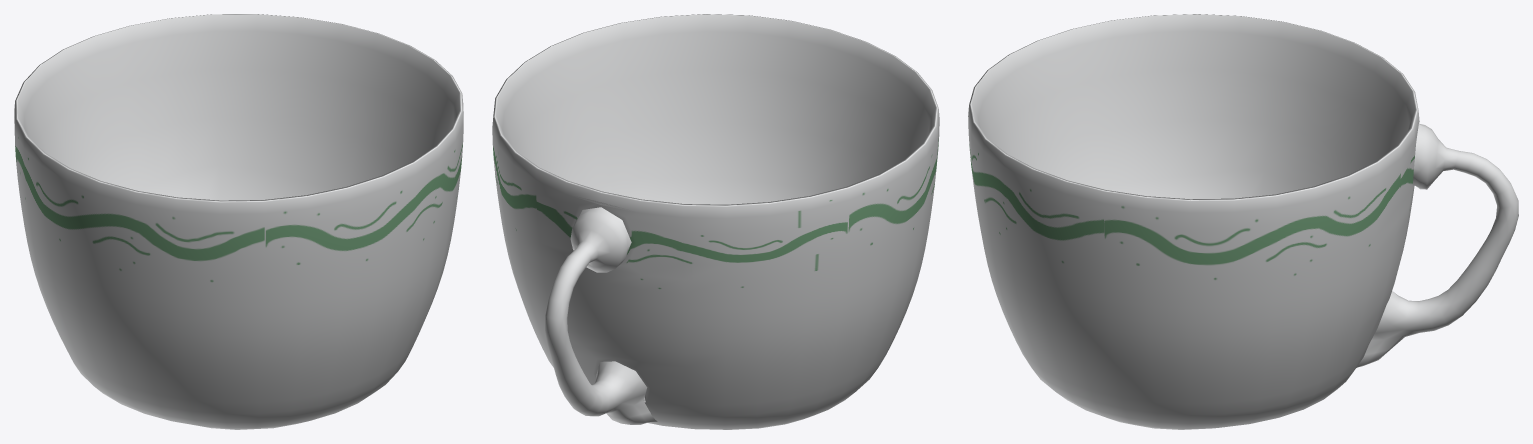
File: Cup3.fbx
The picture shows the model from 3 angles, left to right: view 1: azimuth 30°, elevation 25°; view 2: azimuth 150°, elevation 25°; view 3: azimuth 270°, elevation 25°; orthographic projection.
Visible parts, largest first — view 1: Cup; view 2: Cup; view 3: Cup.
Part boxes in pixels (box(x1,y1,x2,y2)): Cup: box(14, 14, 463, 429); Cup: box(492, 14, 939, 429); Cup: box(968, 14, 1518, 429).
Bounding box in the file's own units: 2.86 × 1.93 × 3.49.
1 material, 1 textured.
